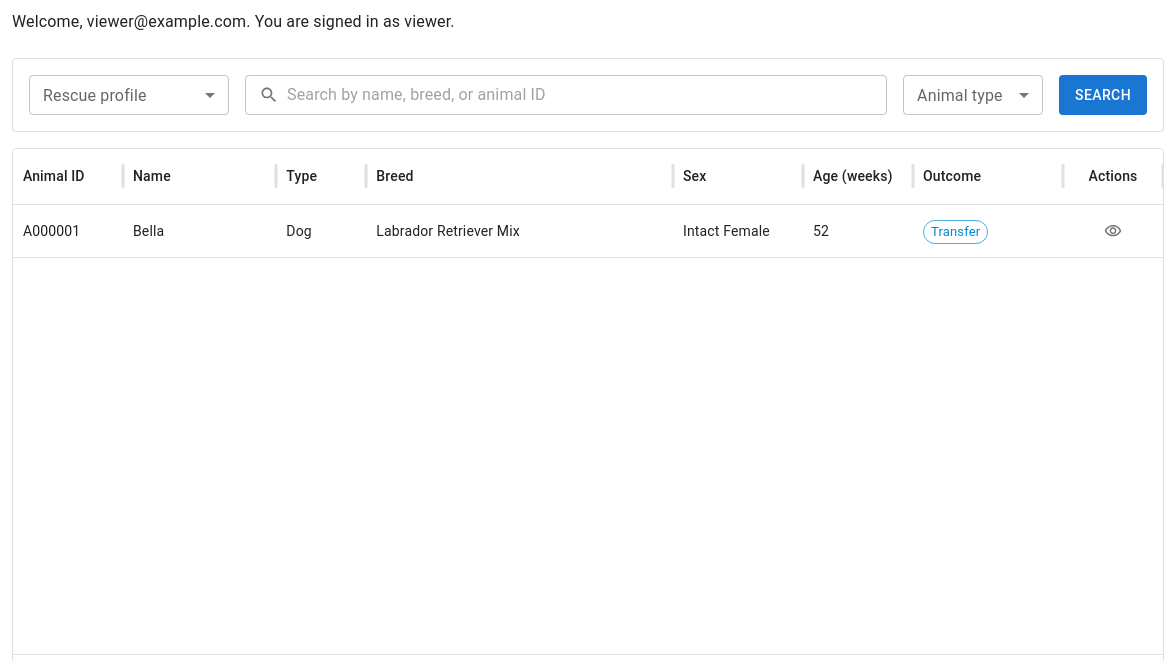
Scenario: DashboardPage › shows ranked matches when a rescue profile is selected
The width and height of the screenshot is (1176, 661).
Expected: the text "Bella" is shown, [133, 223, 164, 239]
Click the dropdown named "Rescue profile" next to "Rescue profile": (129, 95) [29, 75, 229, 115]
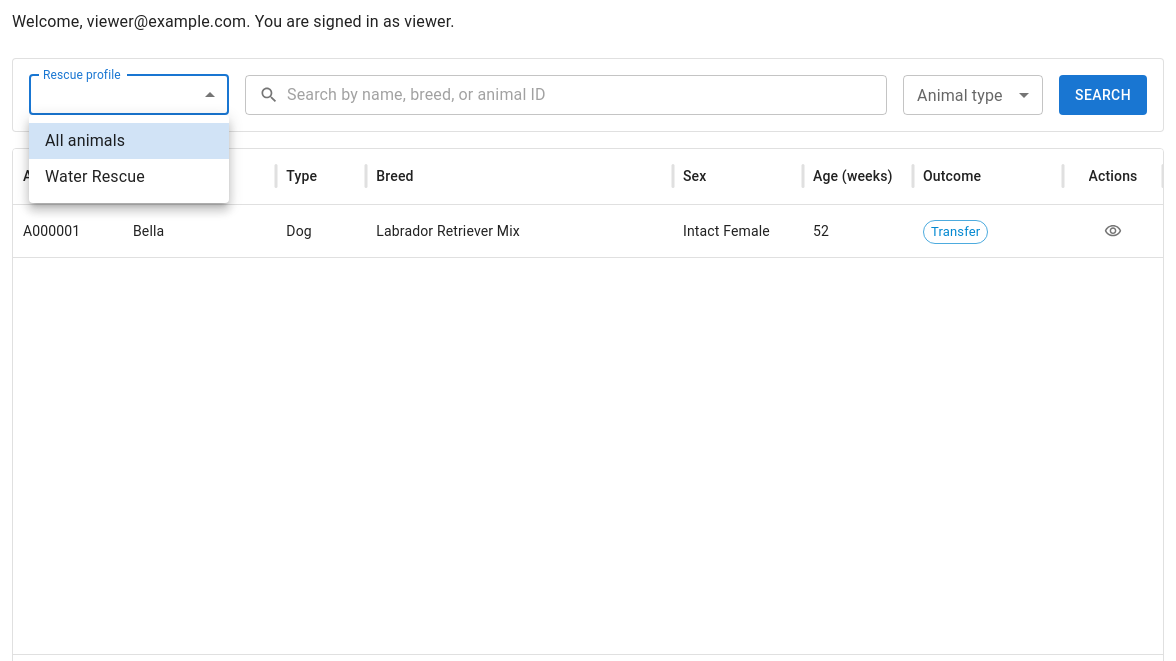
Click the option "Water Rescue": (95, 176) [45, 167, 145, 186]
(page scrolled)
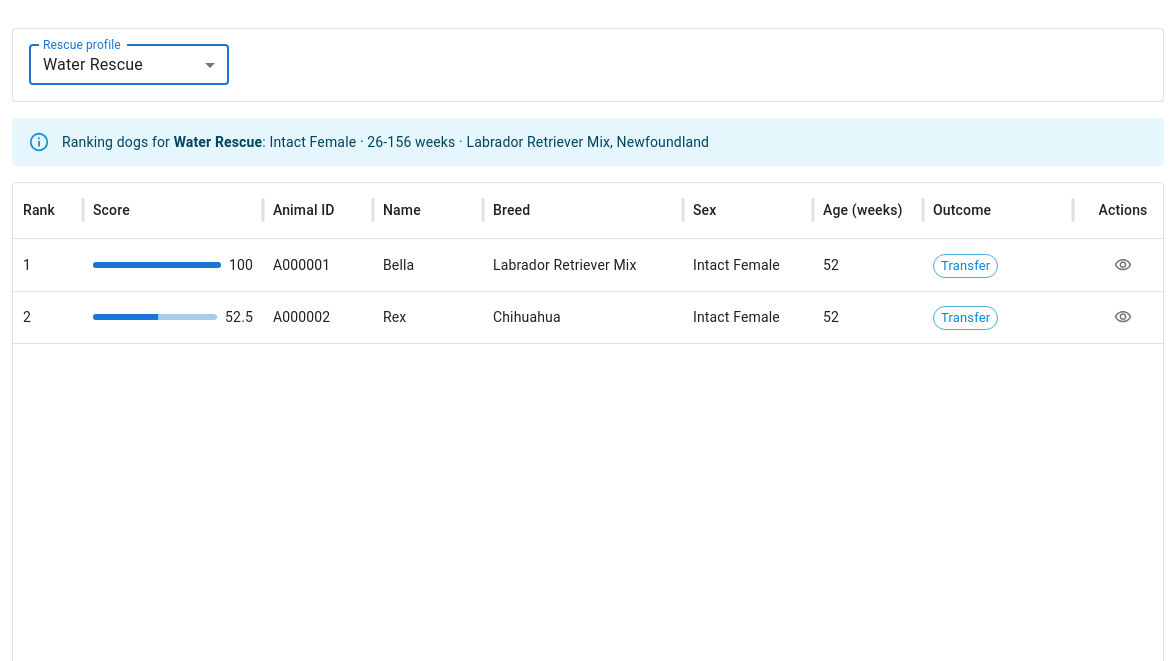
Expected: the text "100" is shown, [229, 255, 253, 275]
Expected: the text "52.5" is shown, [225, 307, 253, 327]
Expected: the message shows "Ranking dogs for", [12, 118, 1164, 166]
